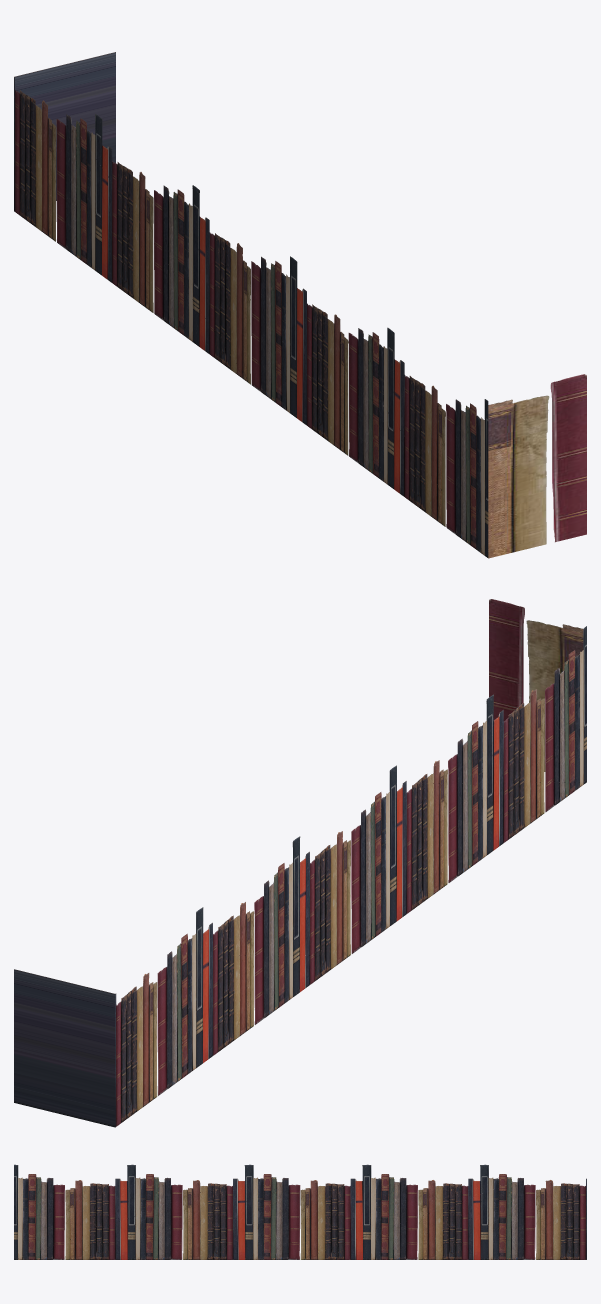
Rendered from Books.fbx.
3 renders of one model, top to bottom at view 1: azimuth 30°, elevation 25°; view 2: azimuth 150°, elevation 25°; view 3: azimuth 270°, elevation 25°, orthographic. The views are drawn at different scales.
Parts seen in each view (by area): view 1: Box026; view 2: Box026; view 3: Box026.
Boxes of the visible parts, <box> form: Box026: <box>14,52,586,558</box>; Box026: <box>14,599,586,1127</box>; Box026: <box>14,1164,586,1259</box>.
Bounding box in the file's own units: 0.3101 × 0.5 × 2.5.
Materials: 1 (1 with a texture image).
